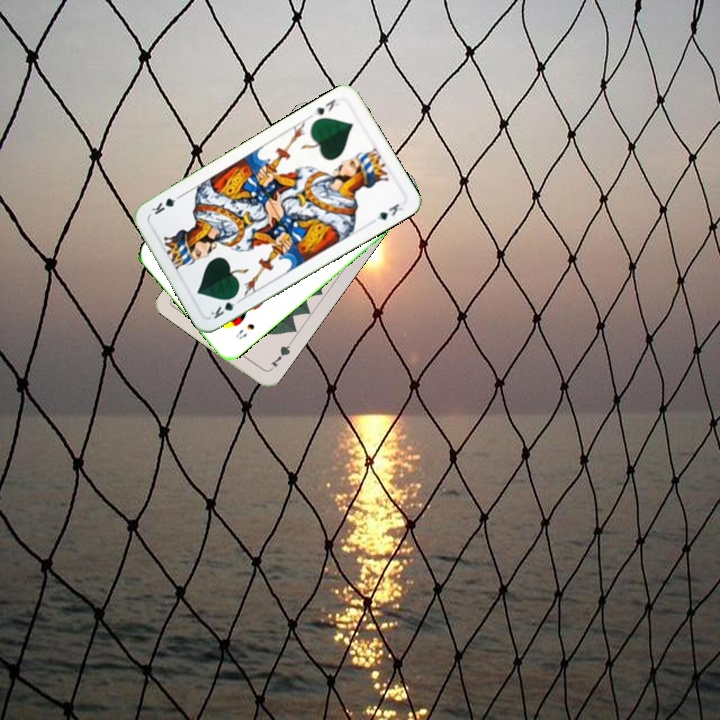G7: (265, 338, 294, 373)
GK: (206, 291, 244, 322), (307, 95, 342, 120)
S8: (232, 319, 257, 342)
